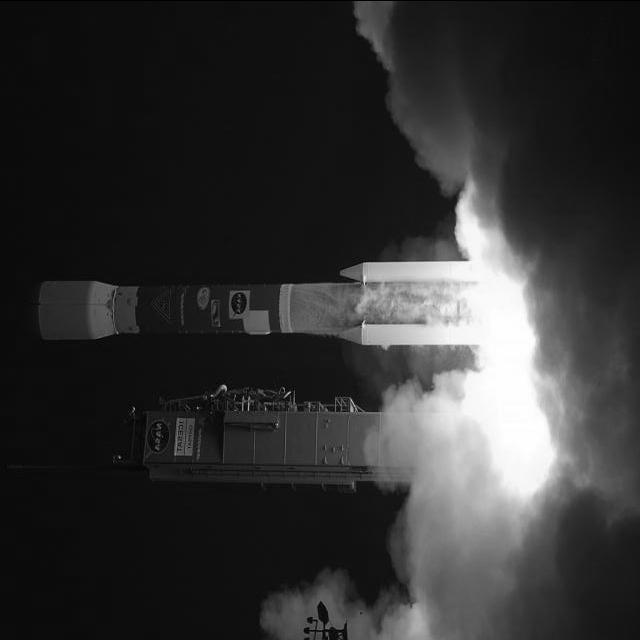missile: (0, 276, 474, 336), (335, 250, 474, 290), (328, 317, 469, 347)
